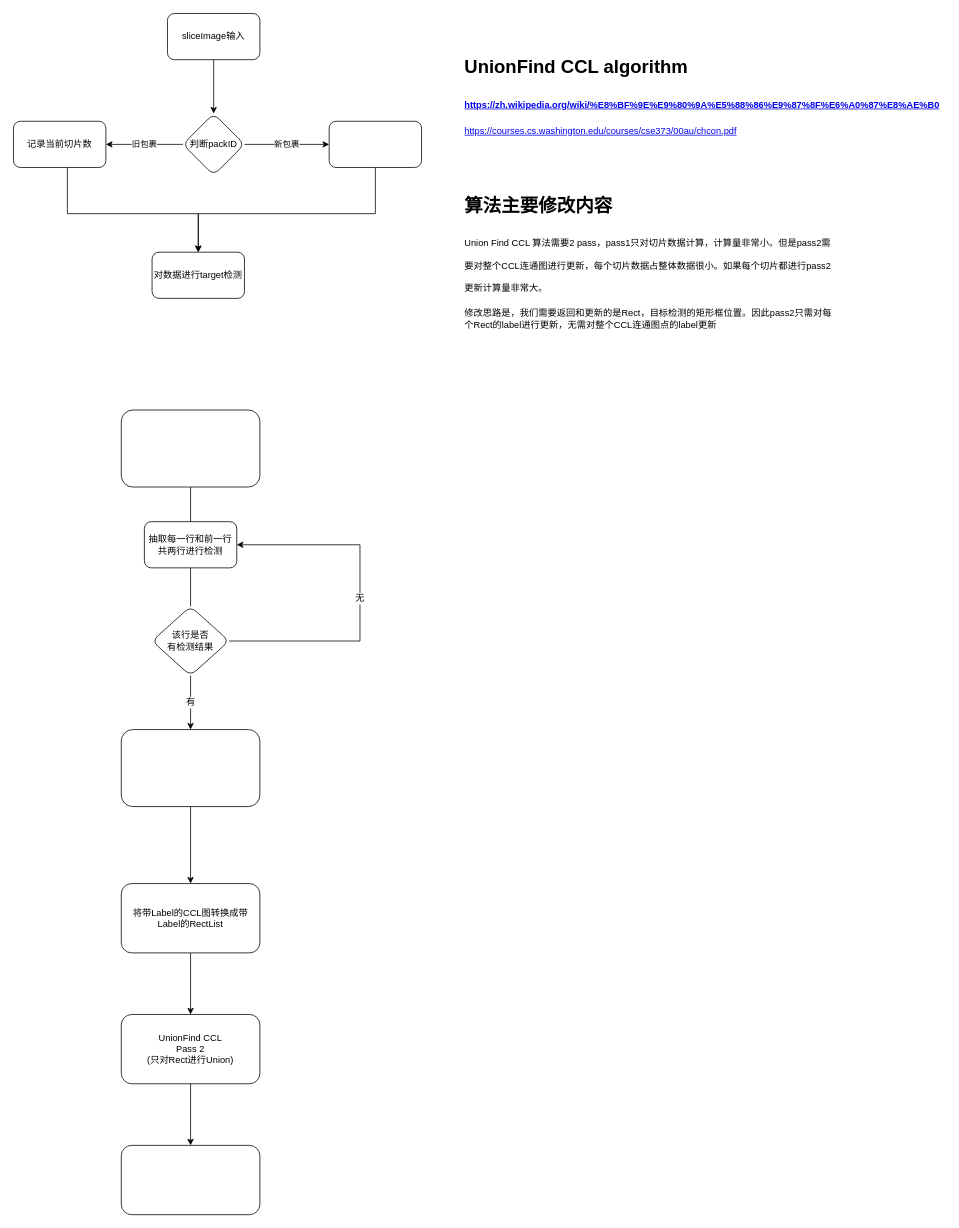
Some shapes in this 959 by 1228 pixel diagram are drawn without their labels. Each missing label, with the centre of its shape:
"Sliced Binary Image" goes at pixel 190 448.
"UnionFind CCL Pass1 (生成CCL 无改动)" goes at pixel 190 768.
"返回结果" goes at pixel 190 1180.
"重置切片数" goes at pixel 375 144.
